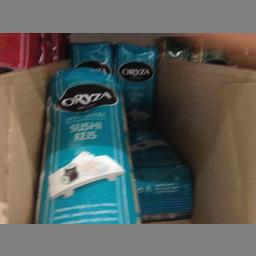rice: (32, 65, 139, 223), (126, 124, 193, 220), (113, 42, 158, 124)
